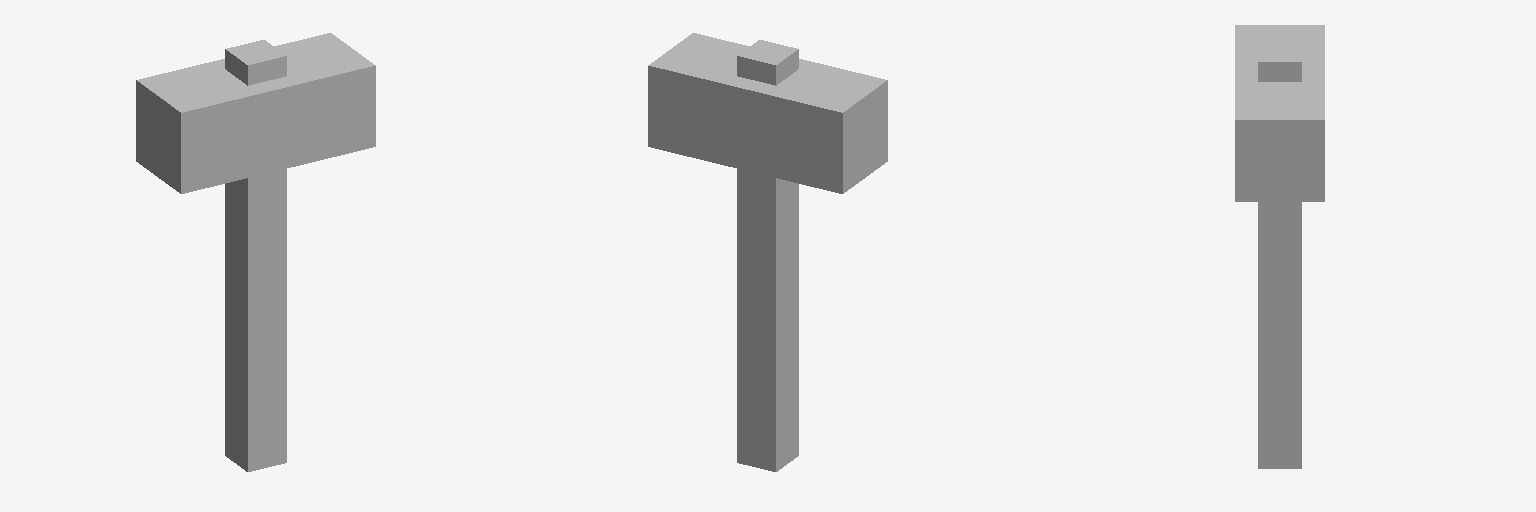
Rendered from ironhammer.obj.
3 views of the same model, side by side, from view 1: azimuth 30°, elevation 25°; view 2: azimuth 150°, elevation 25°; view 3: azimuth 270°, elevation 25° (orthographic).
Parts seen in each view (by area): view 1: cube; view 2: cube; view 3: cube.
Boxes of the visible parts, box(x1,y1,x2,y2) form: cube: box(136, 33, 375, 471); cube: box(648, 33, 887, 471); cube: box(1235, 25, 1324, 468).
Bounding box in the file's own units: 0.625 × 1.25 × 0.25.